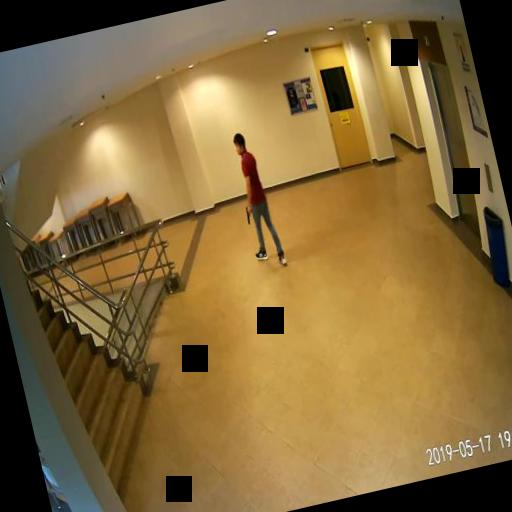Handgun: (243, 202, 253, 223)
